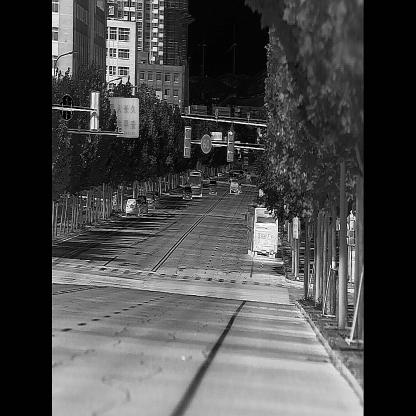bus: (244, 196, 280, 259), (188, 168, 204, 198), (243, 156, 249, 166)
car: (123, 195, 139, 218), (134, 194, 146, 218), (145, 189, 155, 210), (182, 182, 192, 201), (229, 177, 239, 196), (208, 178, 218, 196), (151, 188, 160, 207), (237, 180, 242, 194), (217, 168, 223, 179), (245, 170, 251, 181), (228, 170, 233, 182), (238, 169, 244, 179), (244, 167, 249, 176)
